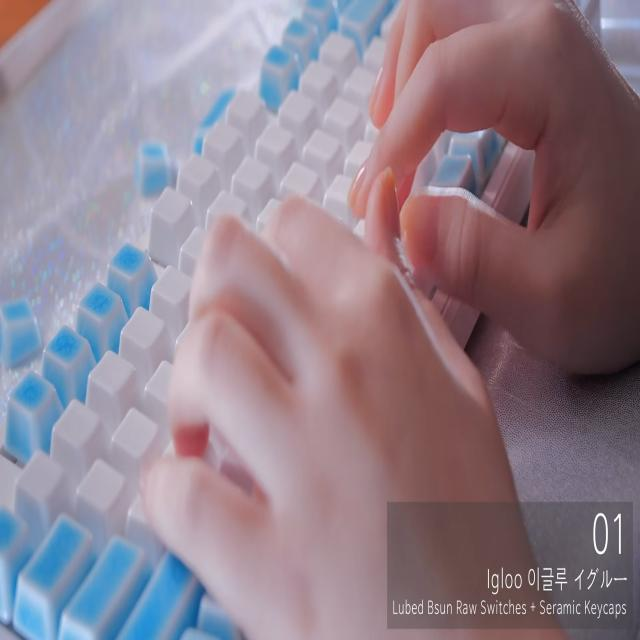keyboard-with-hands: (0, 0, 598, 640)
